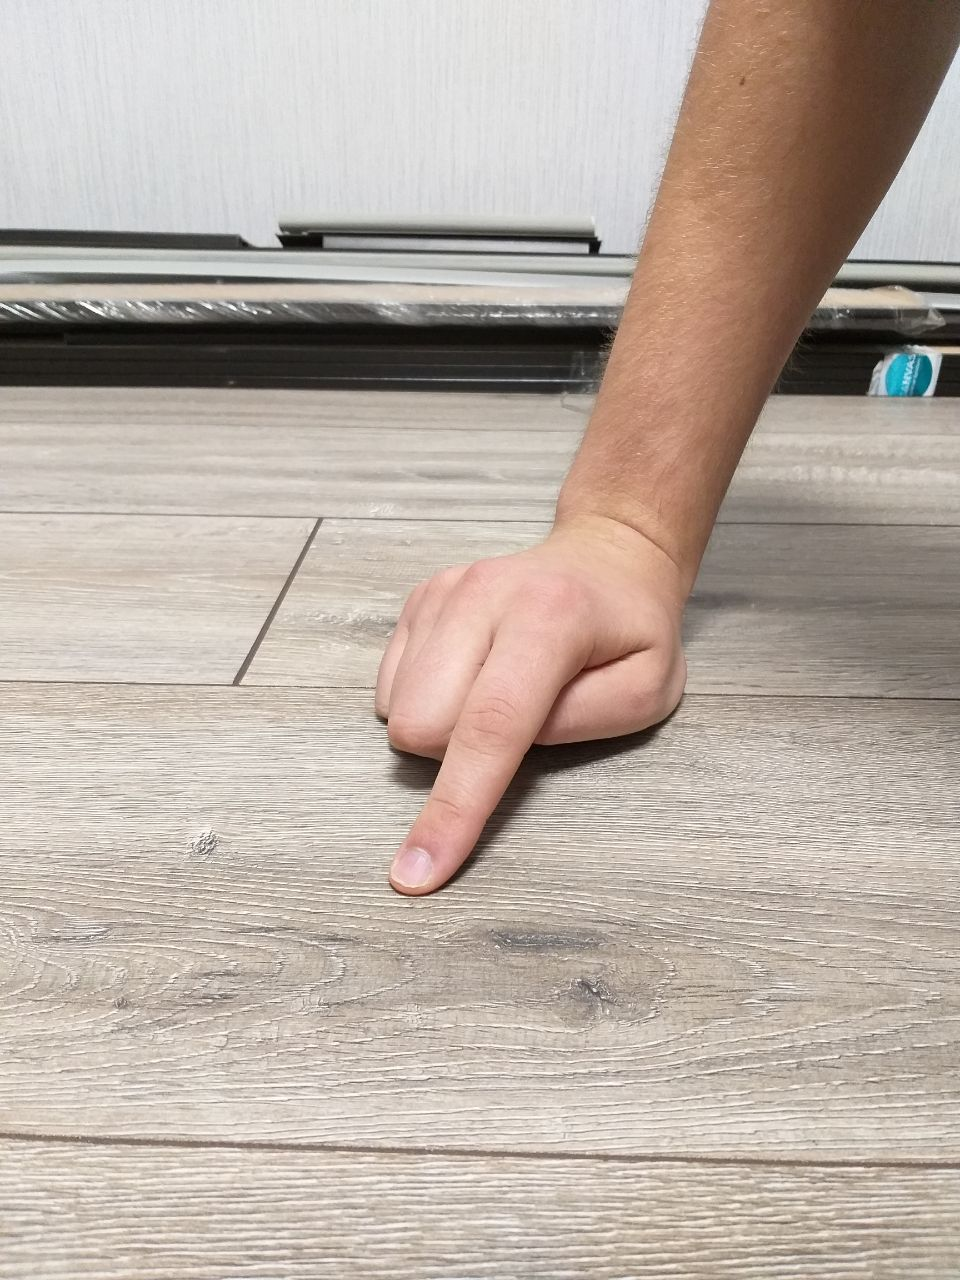finger: (392, 829, 455, 898)
